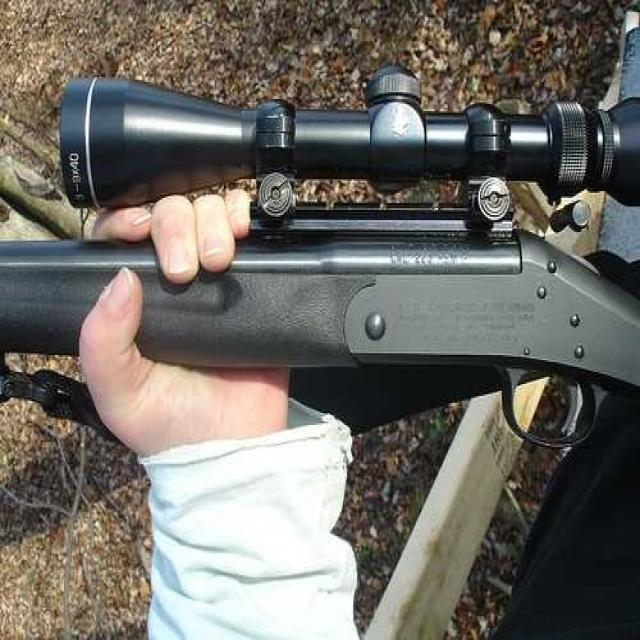heavyweapon: (3, 67, 640, 482)
